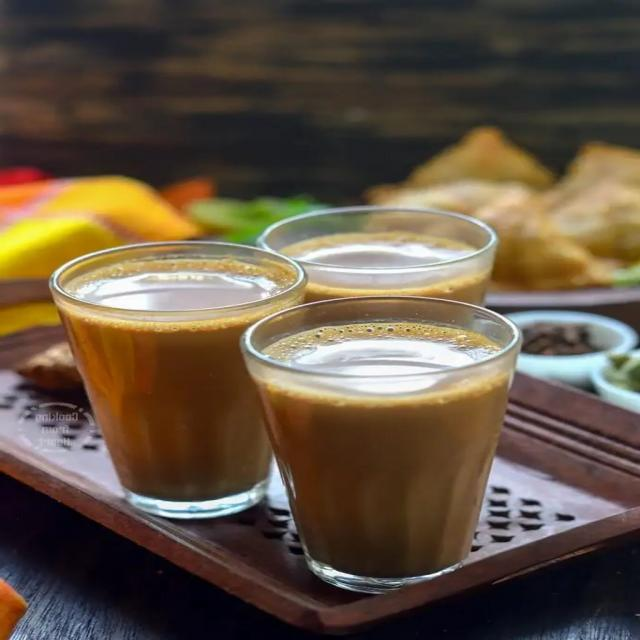Chai: (249, 320, 514, 582), (59, 264, 301, 489), (272, 232, 508, 304)
